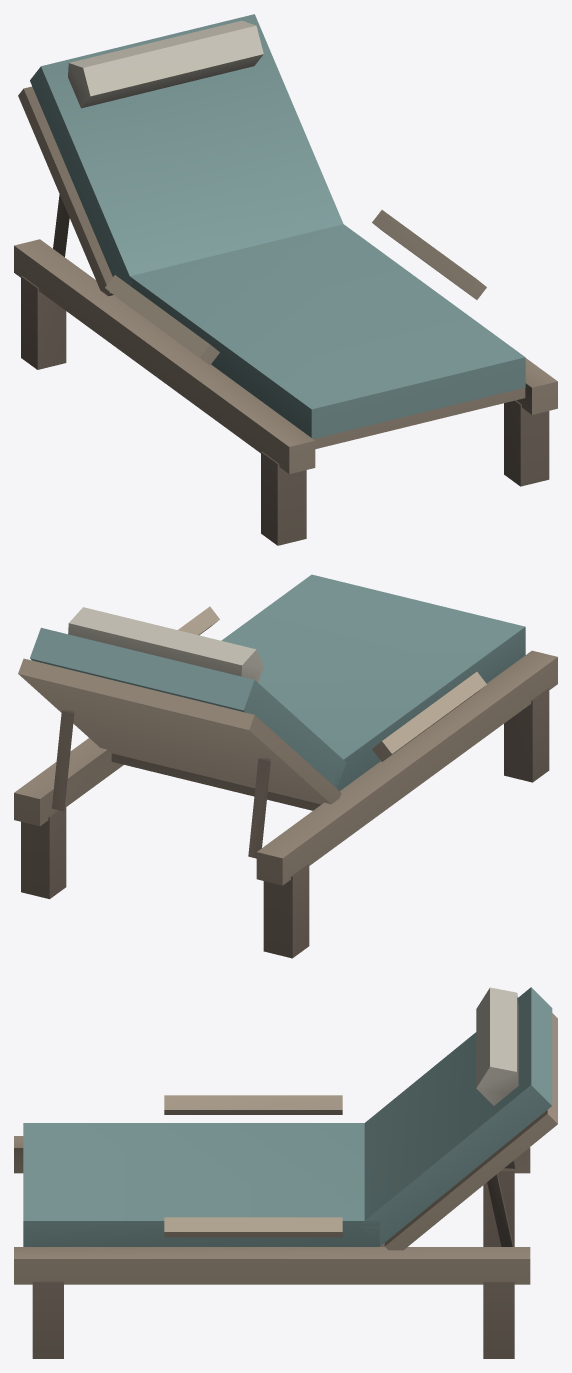
Rendered from lounger.lod1.glb.
3 renders of one model, top to bottom at view 1: azimuth 30°, elevation 25°; view 2: azimuth 150°, elevation 25°; view 3: azimuth 270°, elevation 25°, orthographic. The views are drawn at different scales.
Bounding box in the file's own units: 0.994 × 0.9508 × 1.74.
